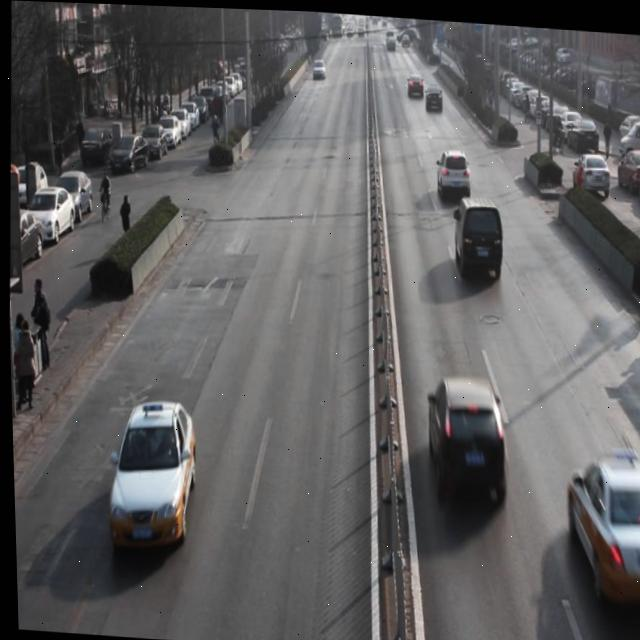car: (107, 388, 198, 562), (557, 454, 640, 615), (420, 375, 509, 505), (433, 142, 472, 203), (425, 78, 442, 113), (405, 71, 425, 97), (307, 53, 325, 80)
truck: (449, 193, 505, 279)
